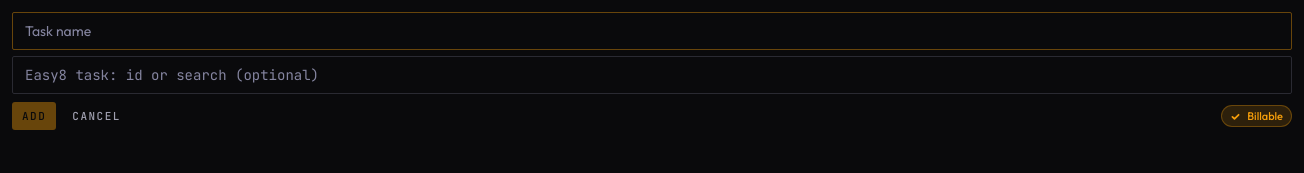
AddItemInline › a cached id resolves without the API
Type "689742" into the dropdown labelled "Easy8 task".
click(652, 75); type("689742")  # box [12,56,1292,94]
Then press Enter
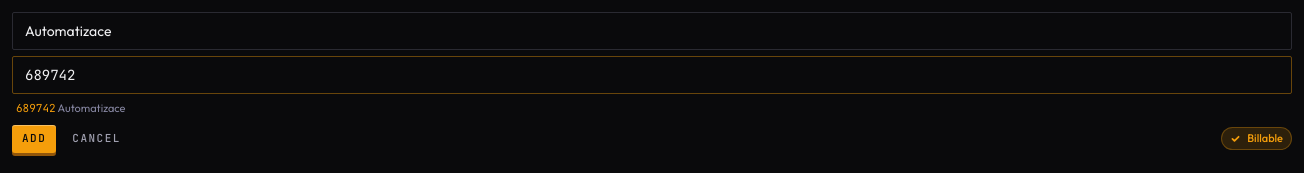
Result: the field named "Task name" holds "Automatizace" at [12,12,1292,50]
